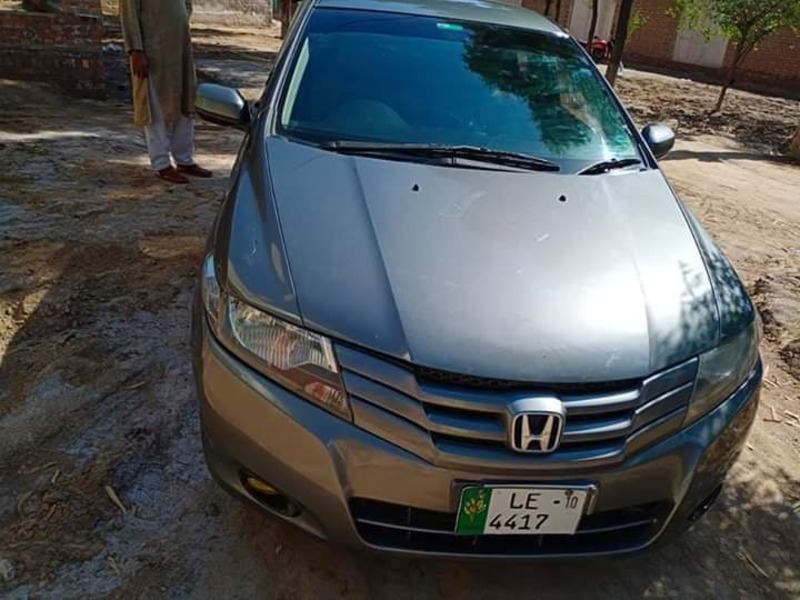License Plate: (453, 480, 590, 540)
